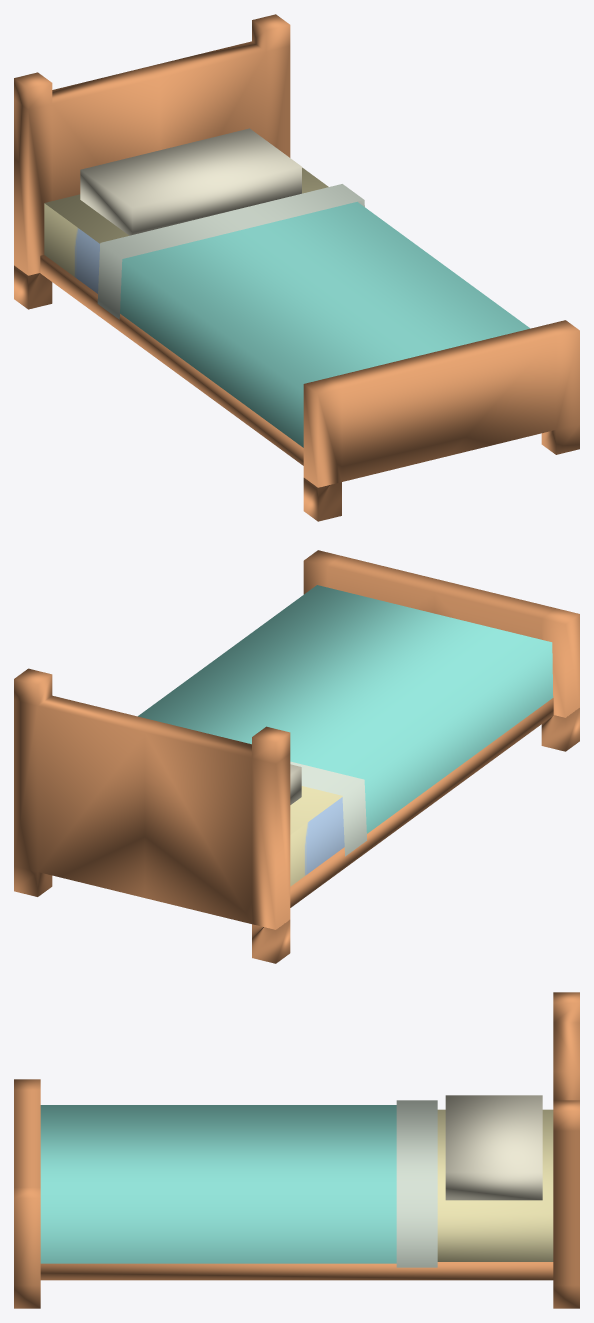
3 renders of one model, top to bottom at view 1: azimuth 30°, elevation 25°; view 2: azimuth 150°, elevation 25°; view 3: azimuth 270°, elevation 25°, orthographic. The views are drawn at different scales.
Visible parts, largest first — view 1: BedFrame, Blanket, Pillow, Blanket.001, Mattress; view 2: BedFrame, Blanket, Mattress, Blanket.001; view 3: Blanket, BedFrame, Pillow, Mattress, Blanket.001.
Boxes of the visible parts, x1,y1,x2,y2 form: BedFrame: (14,14,579,521); Blanket: (120,201,530,447); Pillow: (80,128,301,235); Blanket.001: (97,184,364,319); Mattress: (44,167,328,293); BedFrame: (14,550,579,963); Blanket: (138,585,553,833); Mattress: (290,786,344,886); Blanket.001: (290,761,366,856); Blanket: (40,1105,396,1263); BedFrame: (14,992,579,1308); Pillow: (445,1095,542,1200); Mattress: (437,1109,553,1261); Blanket.001: (396,1100,437,1267).
Bounding box in the file's own units: 1.39 × 1.12 × 2.79.
Materials: 5 (1 with a texture image).
